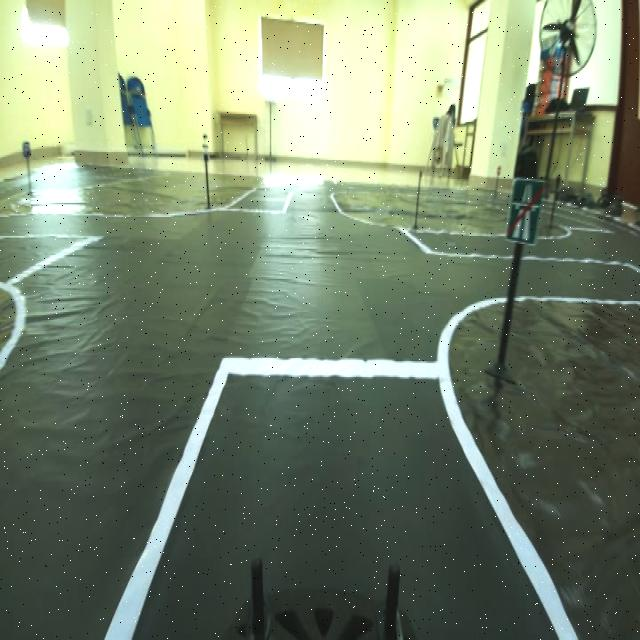highway_exit: (508, 167, 548, 259)
